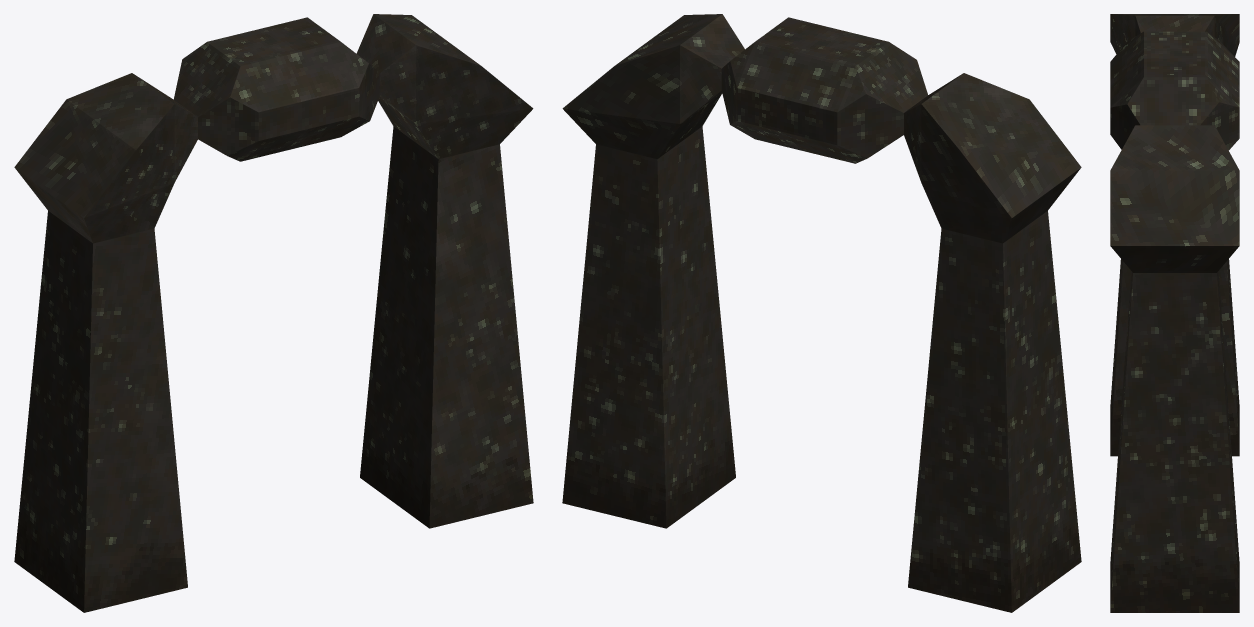
Rendered from portal.glb.
3 views of the same model, side by side, from view 1: azimuth 30°, elevation 25°; view 2: azimuth 150°, elevation 25°; view 3: azimuth 270°, elevation 25° (orthographic). The views are drawn at different scales.
Visible parts, largest first — view 1: PortalFrame; view 2: PortalFrame; view 3: PortalFrame.
Part boxes in pixels (x1,y1,x2,y2): PortalFrame: [14, 14, 533, 612]; PortalFrame: [562, 14, 1081, 612]; PortalFrame: [1110, 14, 1239, 612].
Bounding box in the file's own units: 2.98 × 3.11 × 0.8.
1 material, 1 textured.
